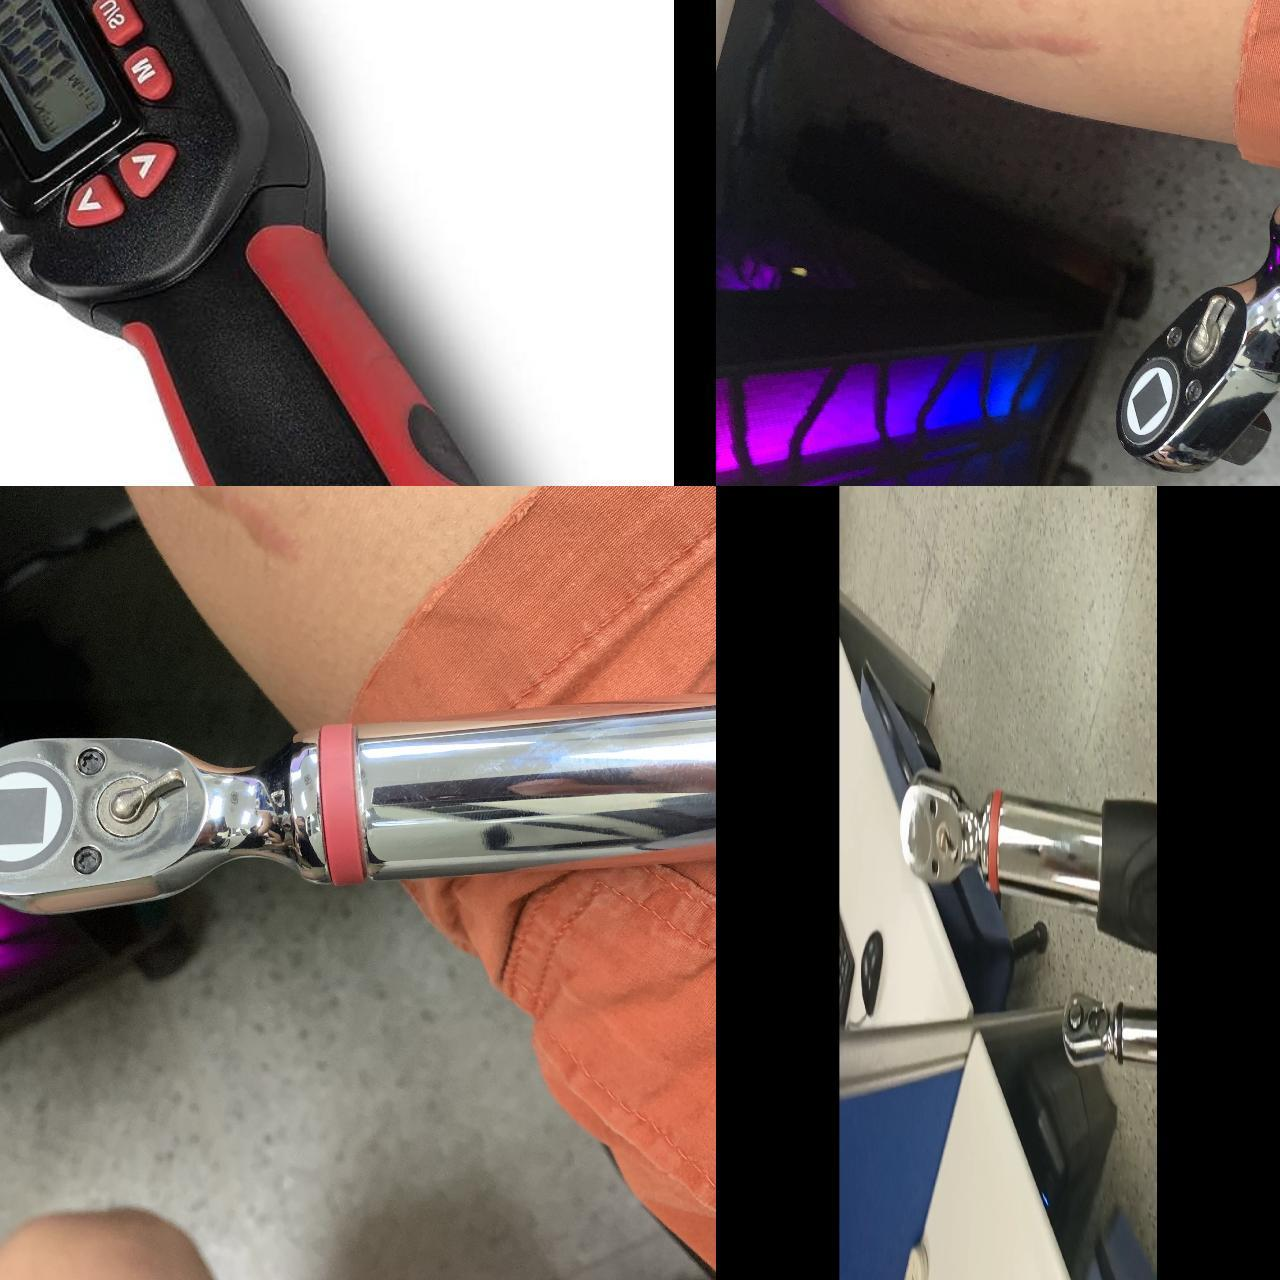Tool: (0, 699, 327, 942), (1111, 215, 1280, 475), (901, 764, 990, 892), (1061, 987, 1117, 1082)
